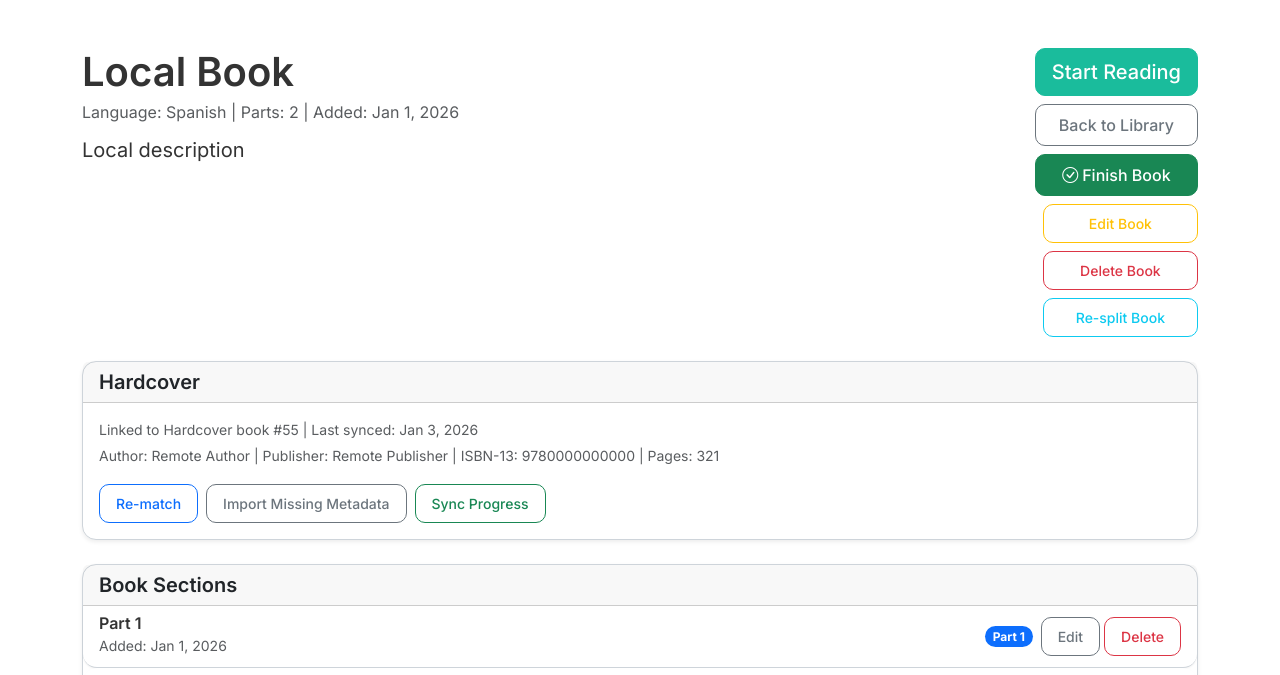
Test: BookDetail Hardcover integration › syncs Hardcover progress and surfaces result
This screenshot has width=1280, height=675.
Expected: the text "Linked to Hardcover book #55 | Last synced: Jan 3, 2026" is shown, x1=99 y1=421 x2=478 y2=438
Expected: the text "Author: Remote Author" is shown, x1=99 y1=447 x2=719 y2=464
Step 1. Click the button "Sync Progress" → (480, 503), box x1=414 y1=484 x2=546 y2=523
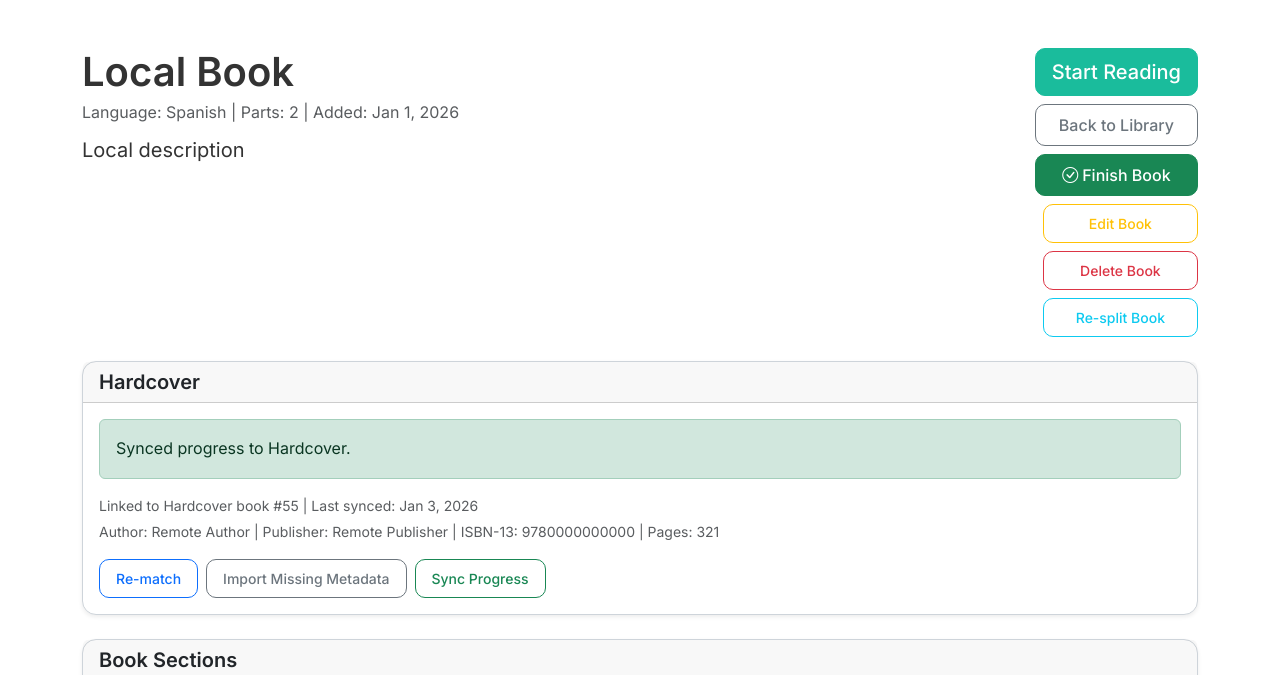
Now the text "Synced progress to Hardcover." is shown, box x1=99 y1=419 x2=1181 y2=479
